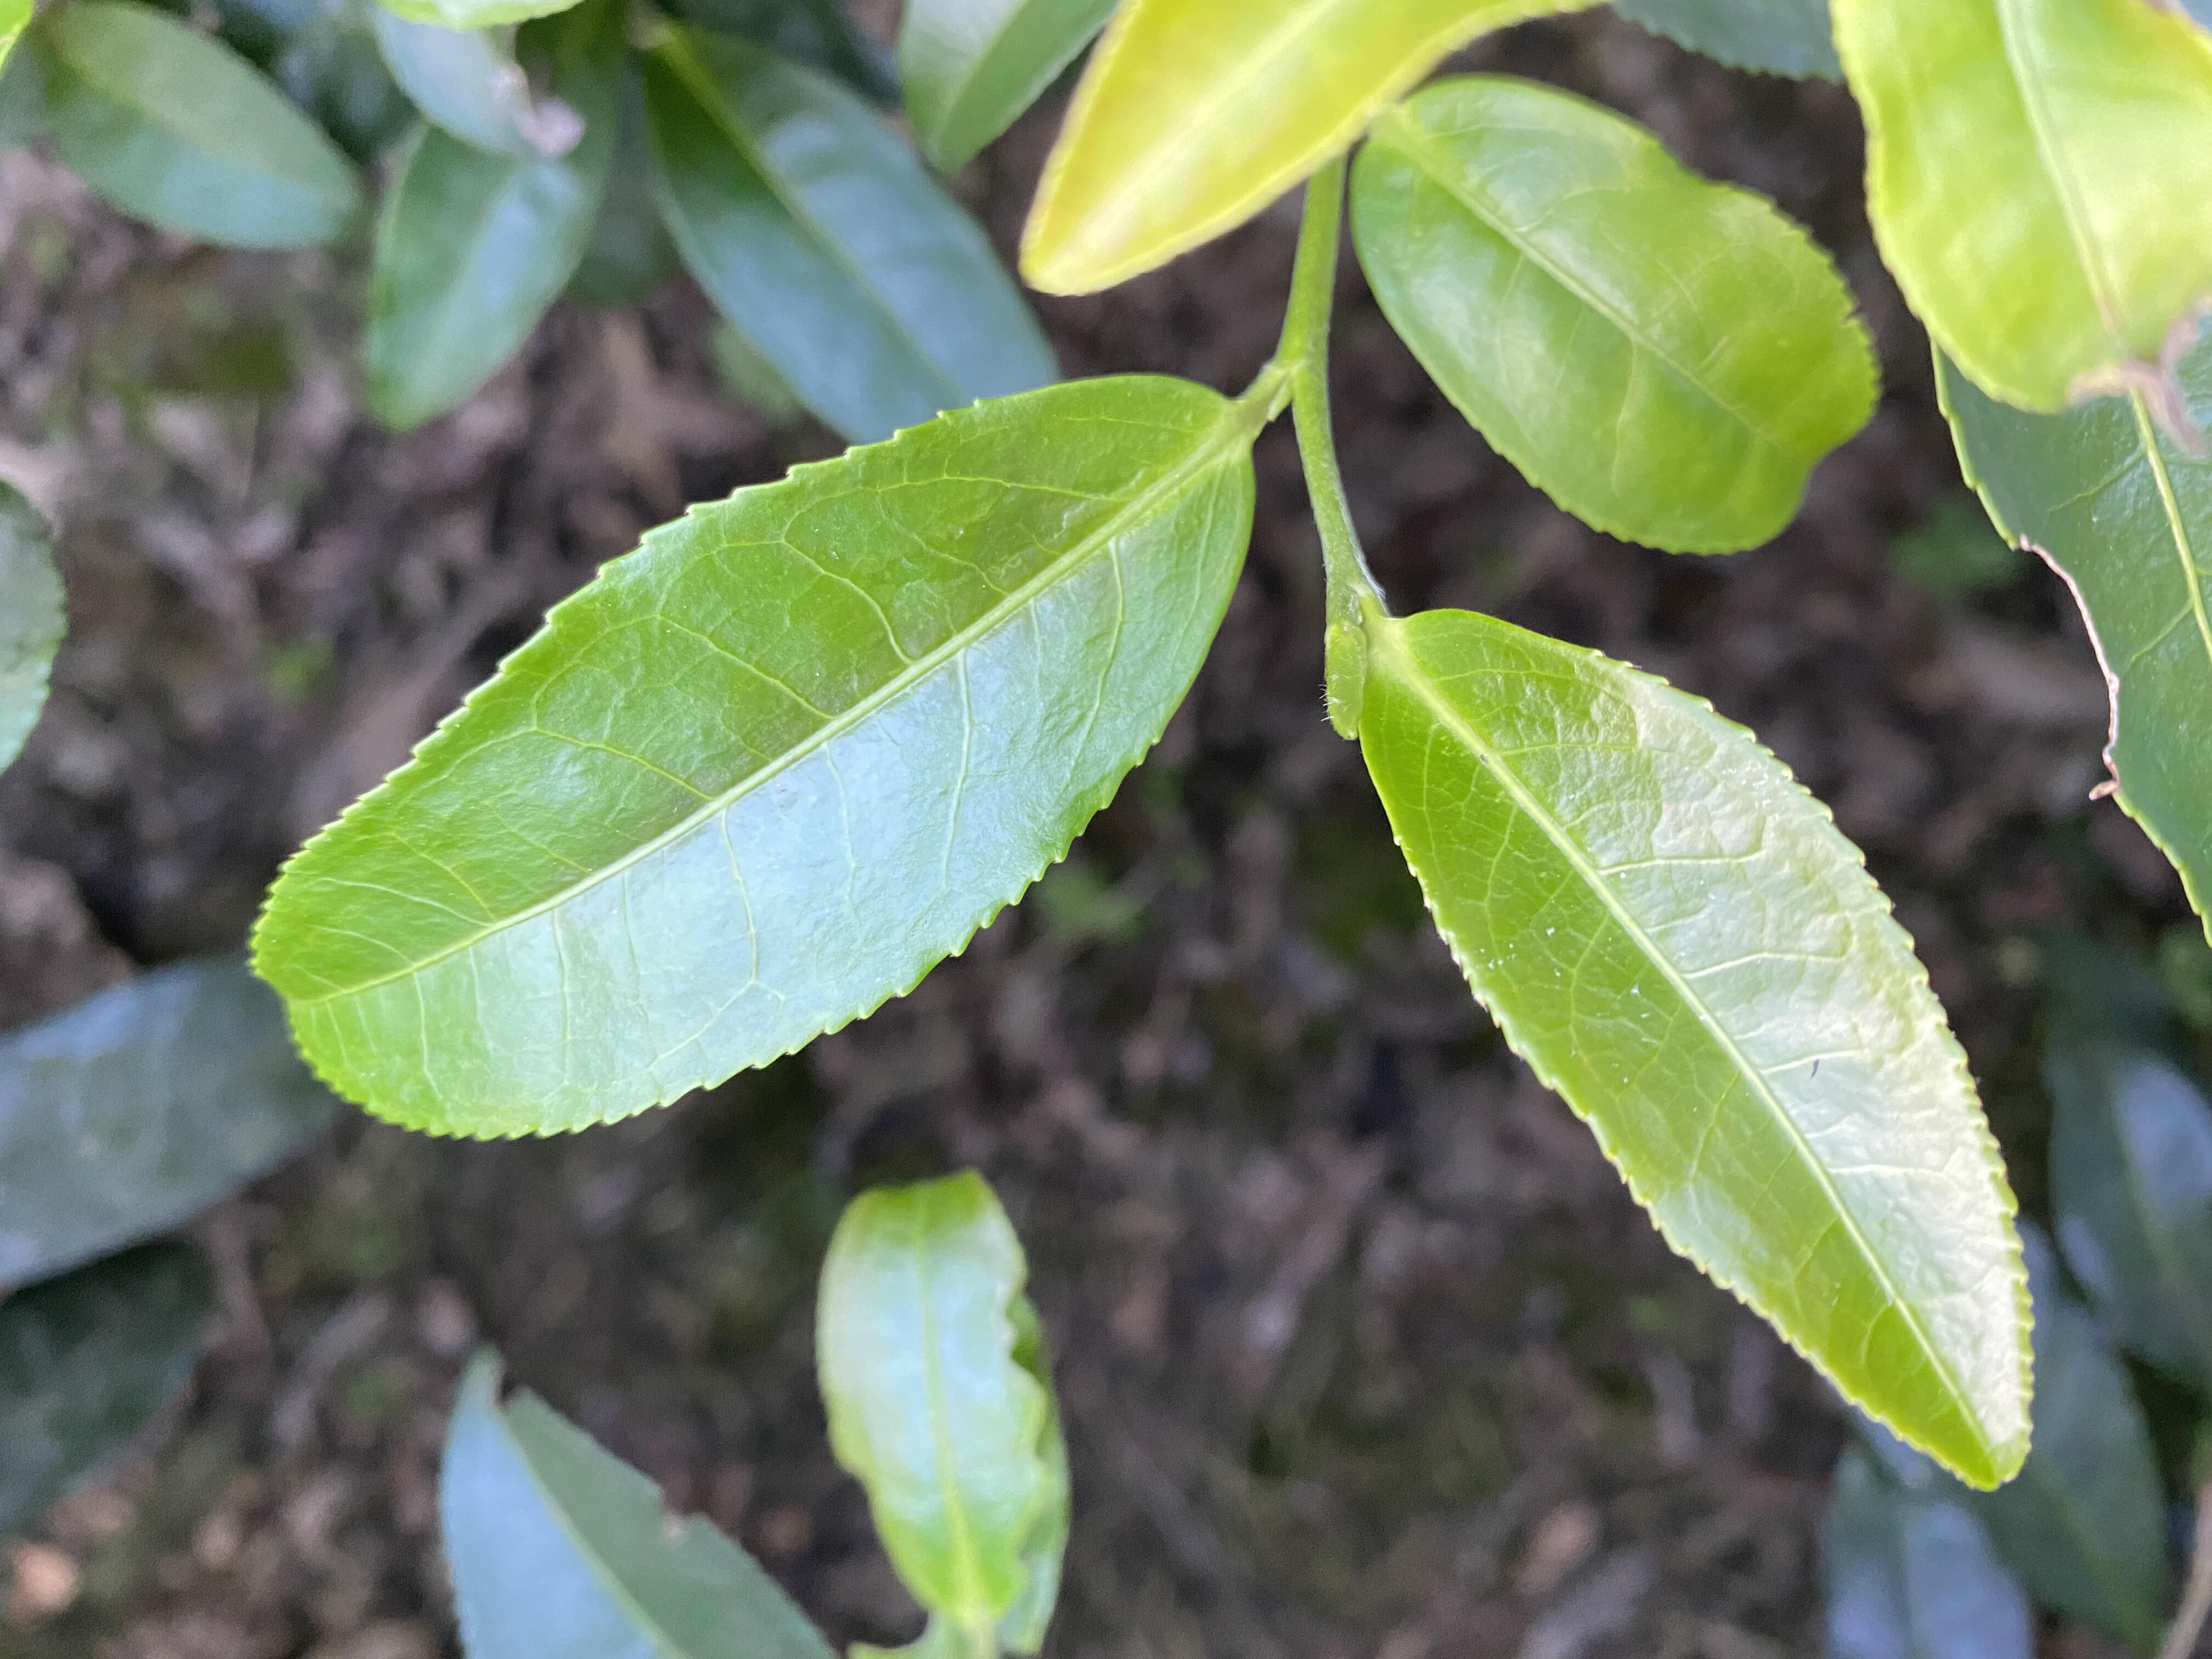chihuo_high: (1822, 2, 2210, 458)
healthy: (237, 369, 1261, 1145), (1359, 606, 2040, 1495), (1348, 71, 1883, 558)
